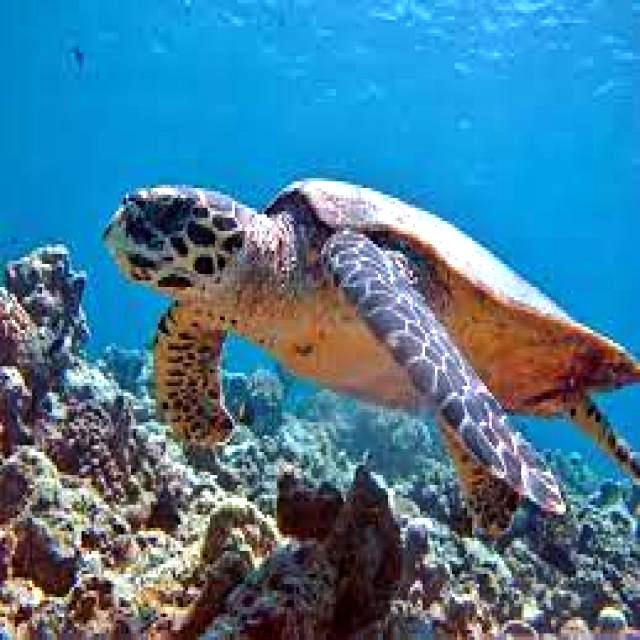Sea turtle: (103, 170, 640, 538)
